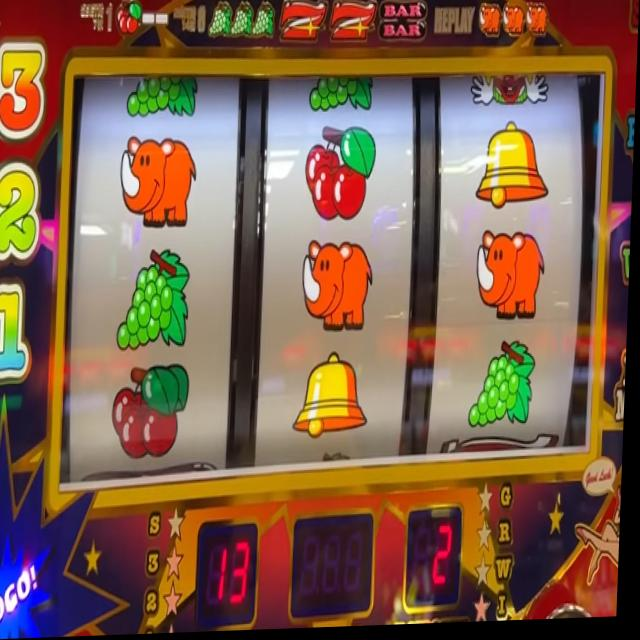bar: (376, 0, 430, 50)
bell: (293, 351, 374, 446), (476, 122, 553, 214)
cherry: (112, 361, 195, 463), (303, 122, 380, 227), (114, 0, 142, 39)
clown: (470, 73, 550, 114), (478, 0, 504, 2), (526, 0, 552, 2), (504, 0, 526, 0)
display: (58, 50, 605, 489)
elephant: (119, 129, 200, 235), (475, 226, 549, 334), (301, 236, 376, 340), (477, 3, 502, 42), (525, 3, 550, 40), (501, 4, 525, 41)
grape: (117, 244, 195, 358), (470, 340, 539, 433), (126, 72, 200, 126), (308, 73, 376, 121), (206, 2, 232, 42), (252, 0, 275, 43), (232, 1, 254, 40)
z: (278, 0, 329, 46), (330, 0, 378, 48)
